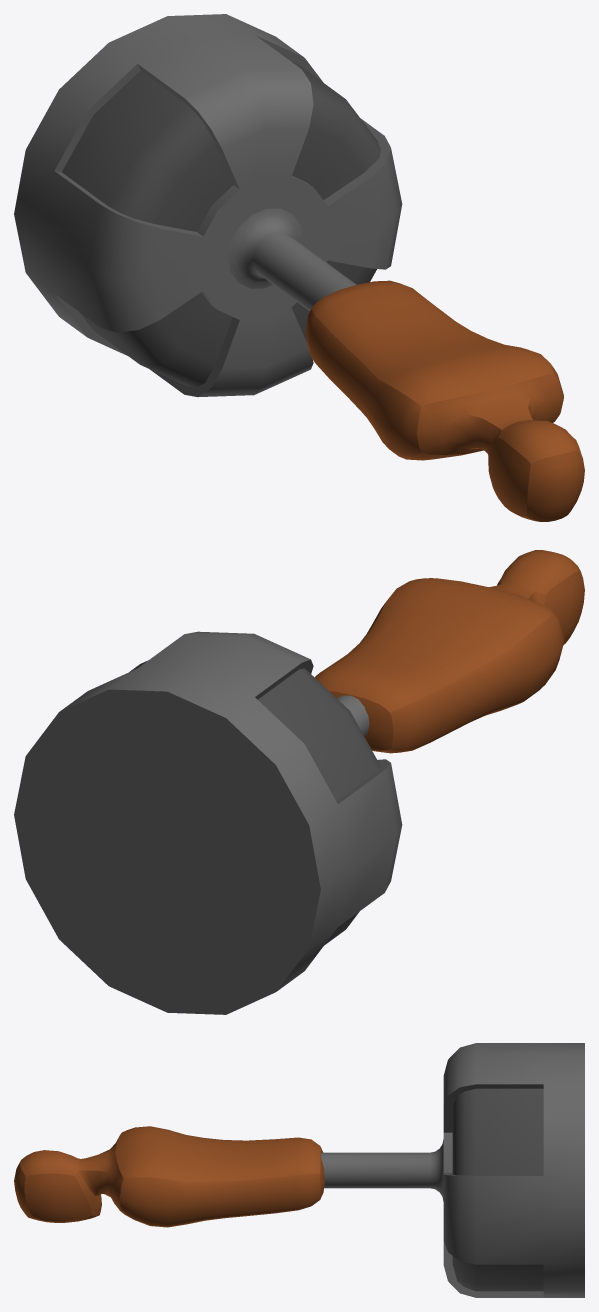
File: dummy.glb
The picture shows the model from 3 angles, top to bottom: view 1: azimuth 30°, elevation 25°; view 2: azimuth 150°, elevation 25°; view 3: azimuth 270°, elevation 25°; orthographic projection. The views are drawn at different scales.
Visible parts, largest first — view 1: PunchingBag_Base_LOD0, PunchingBag_Dummy_LOD0; view 2: PunchingBag_Base_LOD0, PunchingBag_Dummy_LOD0; view 3: PunchingBag_Base_LOD0, PunchingBag_Dummy_LOD0.
Boxes of the visible parts, x1,y1,x2,y2 form: PunchingBag_Base_LOD0: [14, 14, 402, 397]; PunchingBag_Dummy_LOD0: [305, 280, 584, 521]; PunchingBag_Base_LOD0: [14, 631, 402, 1014]; PunchingBag_Dummy_LOD0: [315, 550, 584, 753]; PunchingBag_Base_LOD0: [321, 1043, 584, 1297]; PunchingBag_Dummy_LOD0: [14, 1126, 324, 1227].
Bounding box in the file's own units: 0.75 × 0.75 × 1.68.
1 material, 1 textured.
